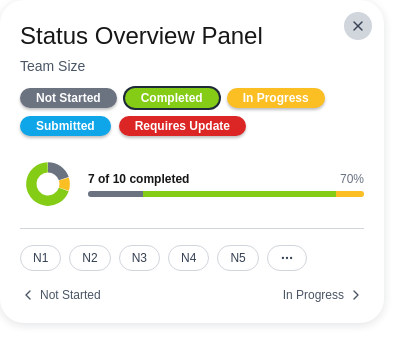
StatusOverviewPanel › shows an empty message for a status with no NSOs
The image size is (403, 344).
Click the button "Submitted". click: (65, 126)
box: x1=20 y1=116 x2=111 y2=136
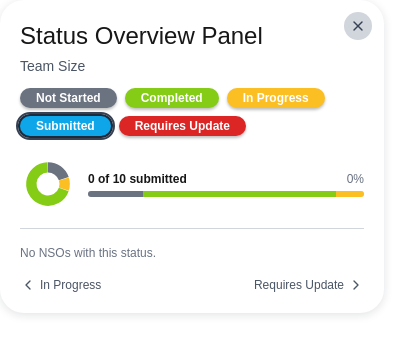
Check: the text "No NSOs with this status." is shown, box x1=20 y1=245 x2=156 y2=261
